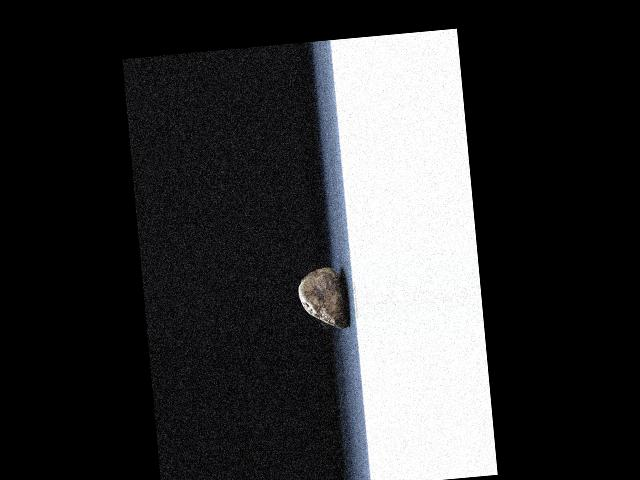beet: (297, 264, 348, 331)
